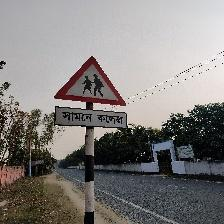College-in-front: (47, 52, 141, 140)
